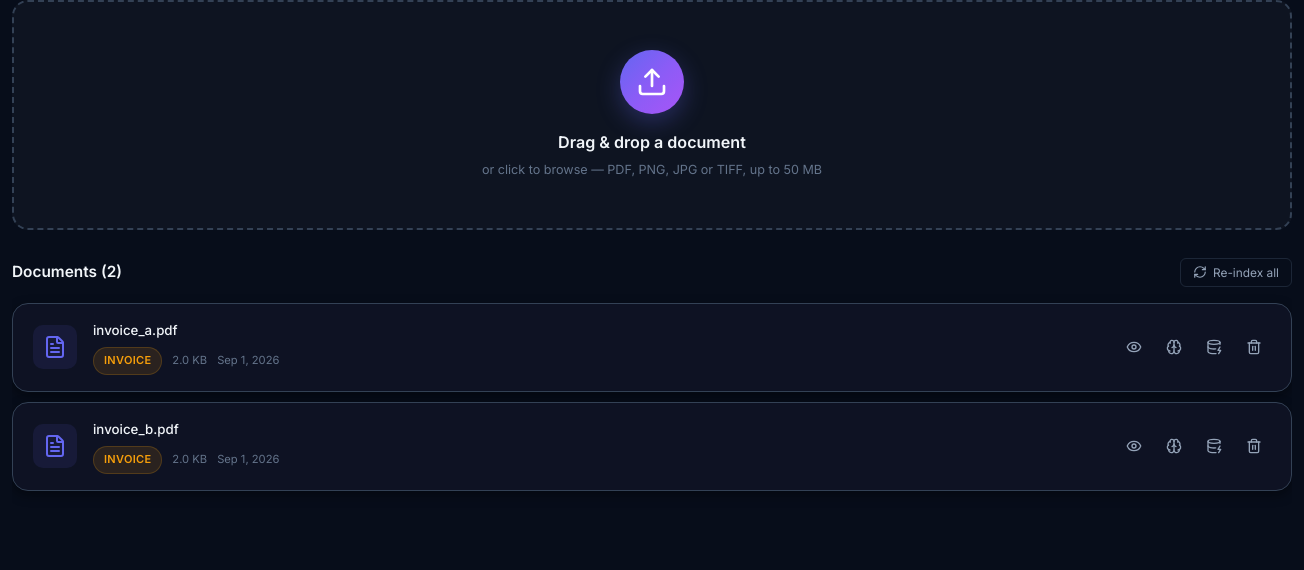
DocumentsPage › restores a document in place when the delete request fails
Click the button named "Delete invoice_a.pdf" at [1254, 347], box [1237,330,1271,364]
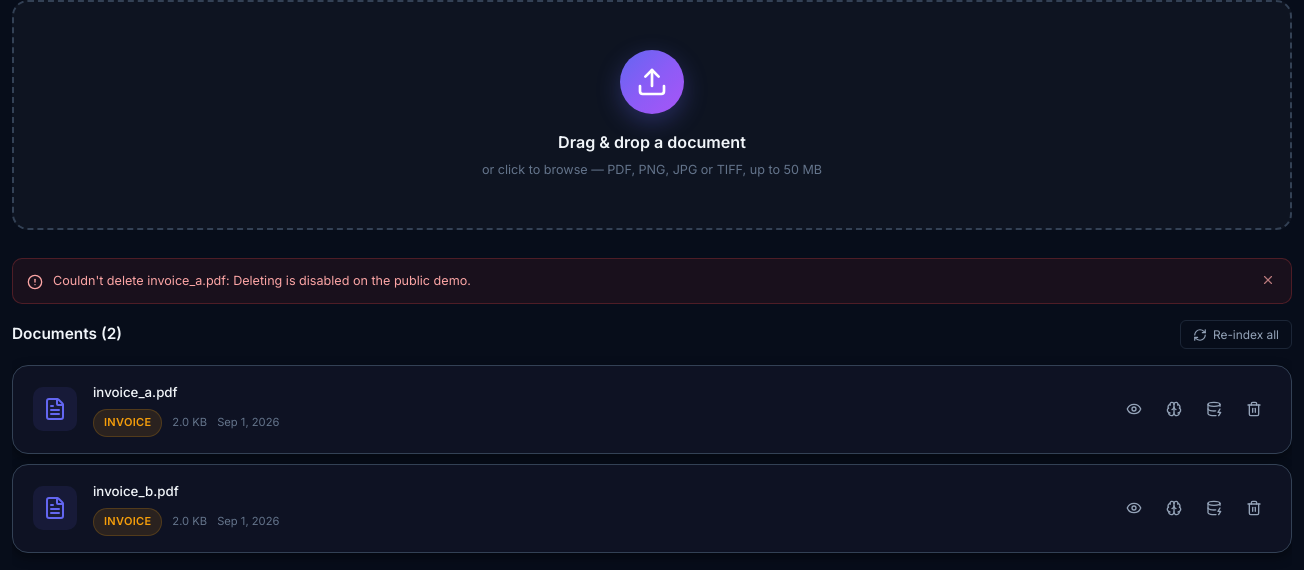
Expected: the heading "Documents (2)" is shown, [12,322,122,347]
Now the text "Deleting is disabled on the public demo." is shown, box [53,273,471,288]
